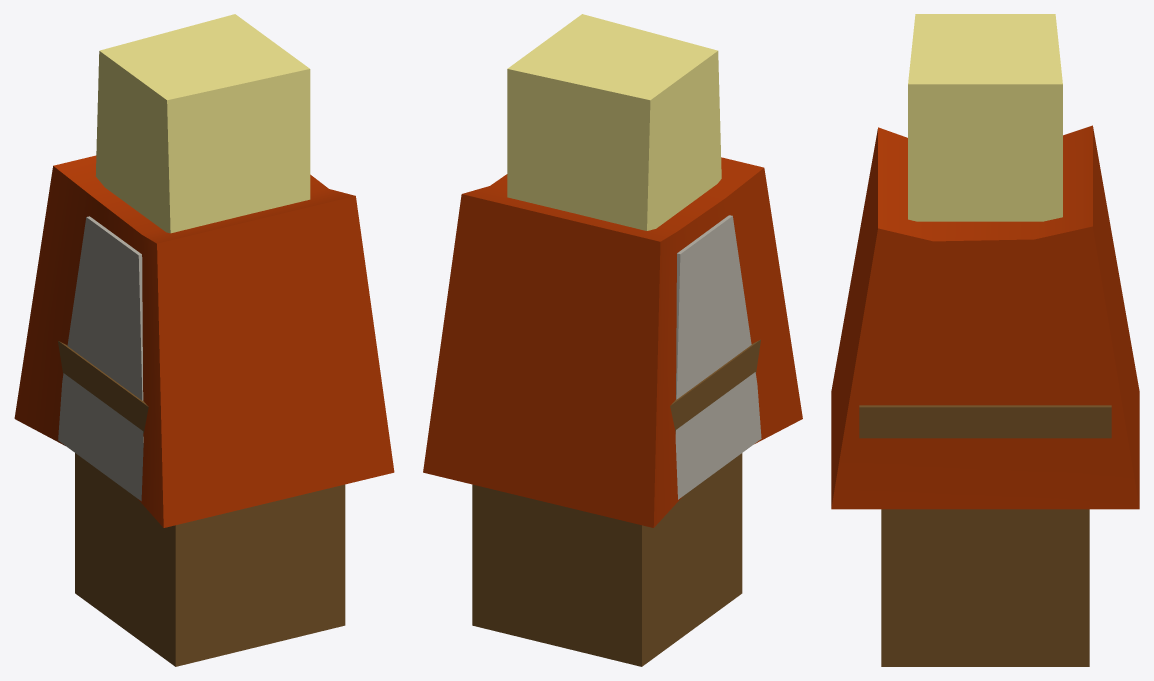
The model's file is settler_general.fbx.
The picture shows the model from 3 angles, left to right: view 1: azimuth 30°, elevation 25°; view 2: azimuth 150°, elevation 25°; view 3: azimuth 270°, elevation 25°; orthographic projection. The views are drawn at different scales.
Visible parts, largest first — view 1: polySurface216; view 2: polySurface216; view 3: polySurface216.
Boxes of the visible parts, bbox=[...] form: polySurface216: bbox=[14, 14, 394, 666]; polySurface216: bbox=[423, 14, 802, 666]; polySurface216: bbox=[831, 14, 1139, 666].
Bounding box in the file's own units: 14.35 × 32.86 × 16.08.
1 material, 1 textured.
